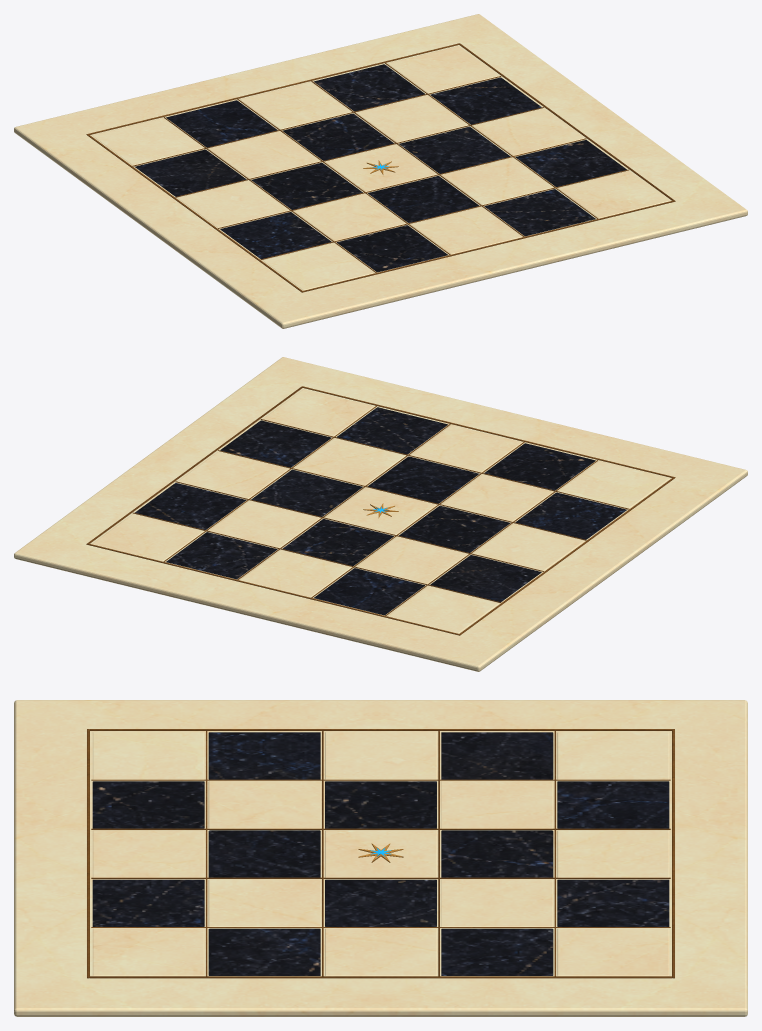
Rendered from queens_trial_board.glb.
3 renders of one model, top to bottom at view 1: azimuth 30°, elevation 25°; view 2: azimuth 150°, elevation 25°; view 3: azimuth 270°, elevation 25°, orthographic. The views are drawn at different scales.
Parts seen in each view (by area): view 1: BoardSurface; view 2: BoardSurface; view 3: BoardSurface.
Boxes of the visible parts, bbox=[...] form: BoardSurface: bbox=[14, 14, 747, 328]; BoardSurface: bbox=[14, 357, 747, 671]; BoardSurface: bbox=[14, 700, 747, 1016].
Size of the model in its own units: 48 by 0.7695 by 48.
Materials: 1 (1 with a texture image).
